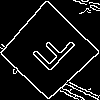F: (24, 26, 79, 81)
